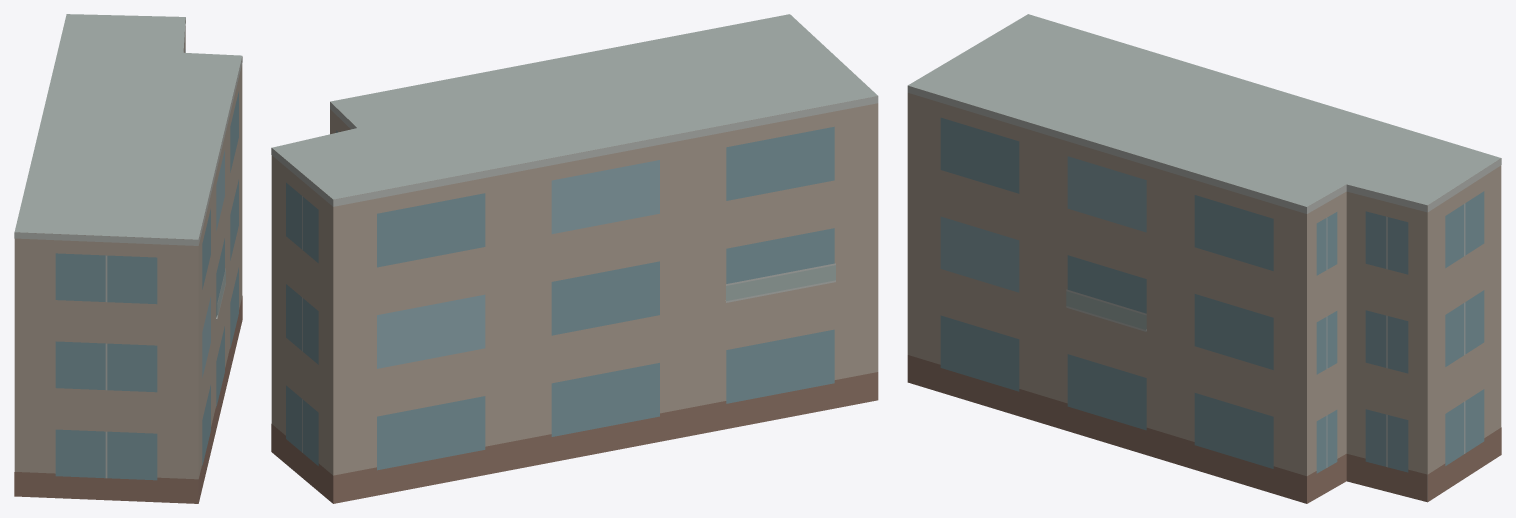
The model's file is survey-upis-32652641.glb.
3 renders of one model, left to right at view 1: azimuth 30°, elevation 25°; view 2: azimuth 150°, elevation 25°; view 3: azimuth 270°, elevation 25°, orthographic. The views are drawn at different scales.
Parts seen in each view (by area): view 1: survey-upis-32652641.tmp; view 2: survey-upis-32652641.tmp; view 3: survey-upis-32652641.tmp.
Boxes of the visible parts, x1,y1,x2,y2 form: survey-upis-32652641.tmp: (14, 14, 242, 503); survey-upis-32652641.tmp: (271, 14, 878, 503); survey-upis-32652641.tmp: (907, 14, 1501, 503).
Size of the model in its own units: 14.23 by 10.2 by 18.5.
